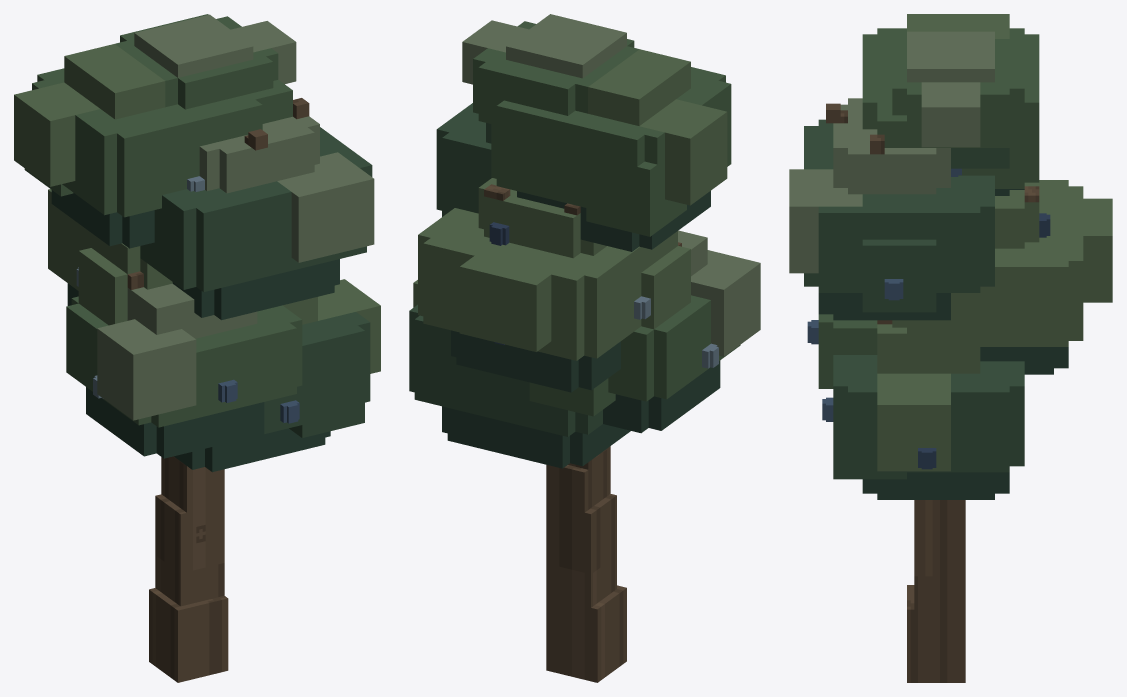
File: juniper_mature.glb
The picture shows the model from 3 angles, left to right: view 1: azimuth 30°, elevation 25°; view 2: azimuth 150°, elevation 25°; view 3: azimuth 270°, elevation 25°; orthographic projection.
Parts seen in each view (by area): view 1: VoxelVisual; view 2: VoxelVisual; view 3: VoxelVisual.
Boxes of the visible parts, x1,y1,x2,y2 form: VoxelVisual: [14, 14, 380, 682]; VoxelVisual: [409, 14, 760, 682]; VoxelVisual: [789, 14, 1112, 682].
Size of what is drawn, in the model's own units: 6.19 by 11.75 by 5.5.
